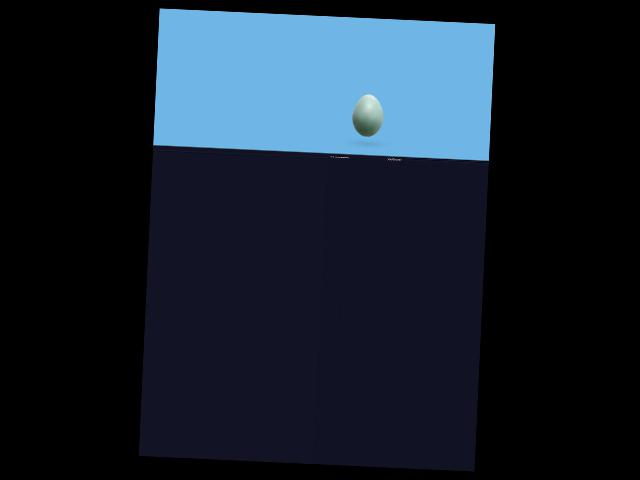egg: (350, 93, 383, 136)
